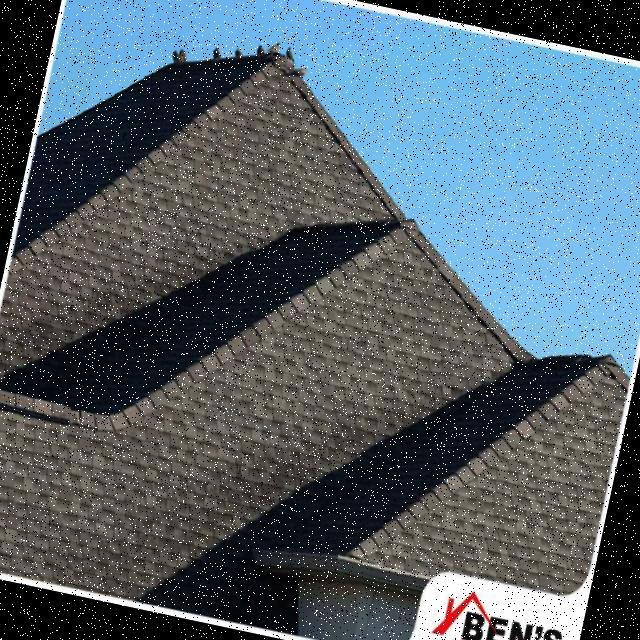bird: (210, 44, 223, 61)
